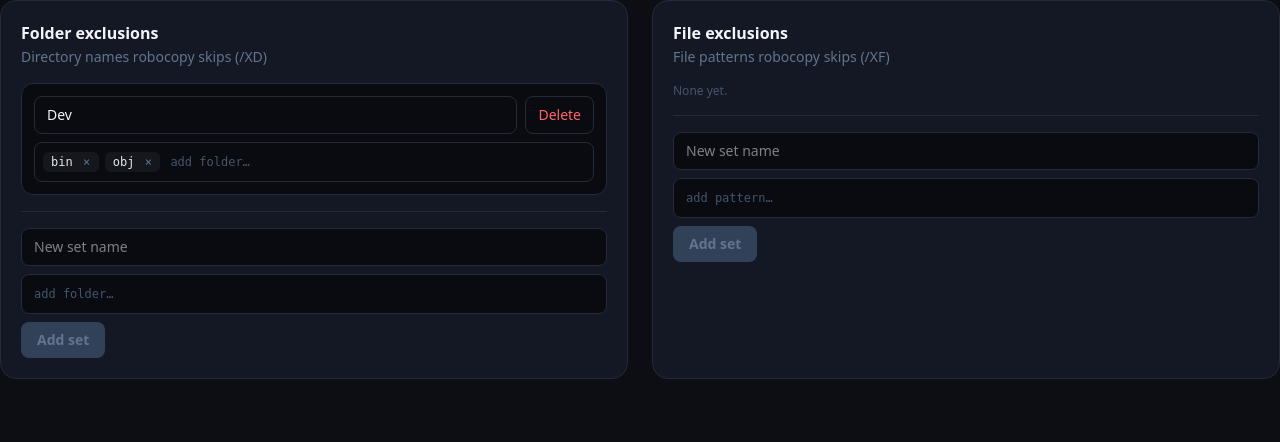
Test case: SetsTab editor › Cancel reverts a staged change without saving
Click the button named "Remove obj" at coordinates (148, 162), box [140,154,156,170]
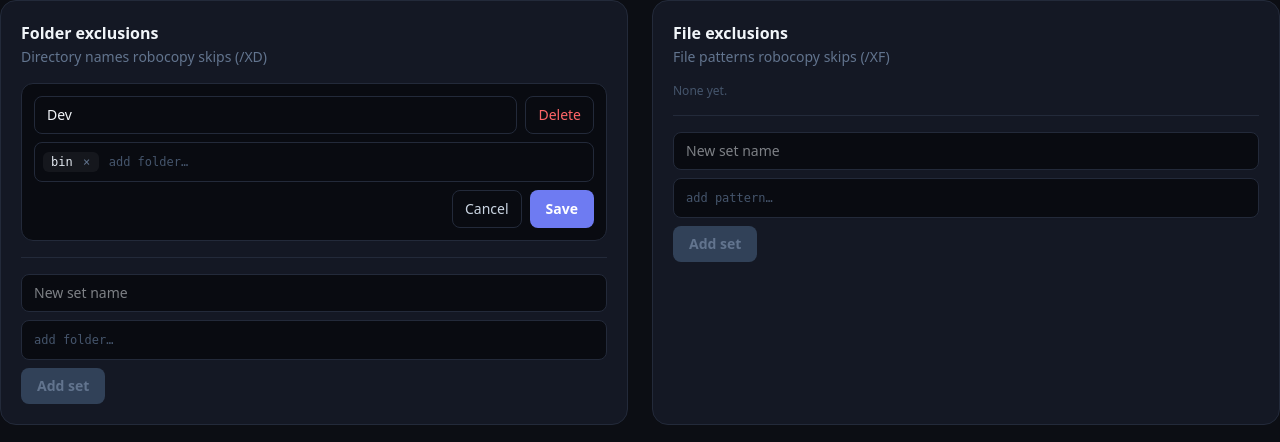
Click the button "Cancel" at coordinates (487, 209), box [452,190,522,228]
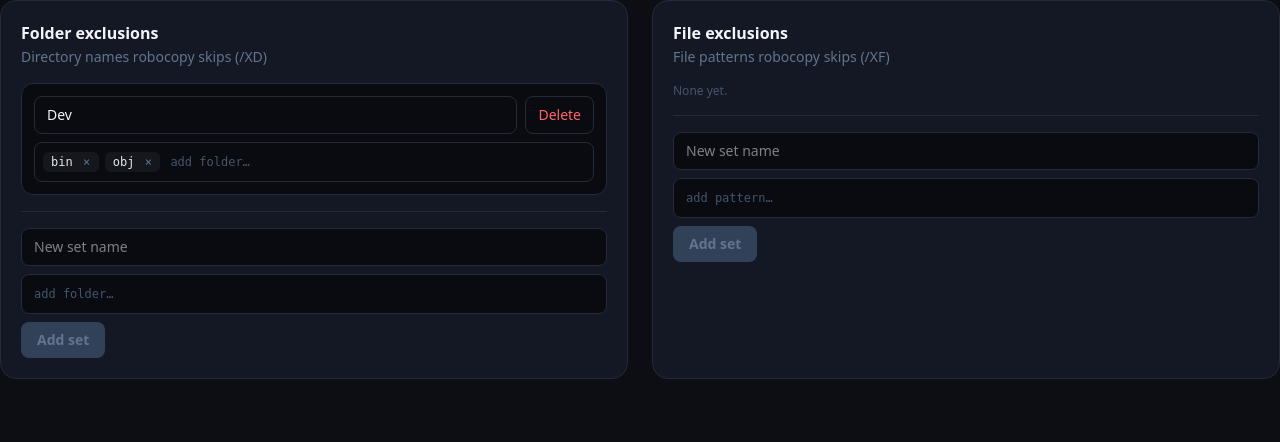
Now the text "obj" is shown, box [113,154,134,170]
Now the button "Save" is gone
